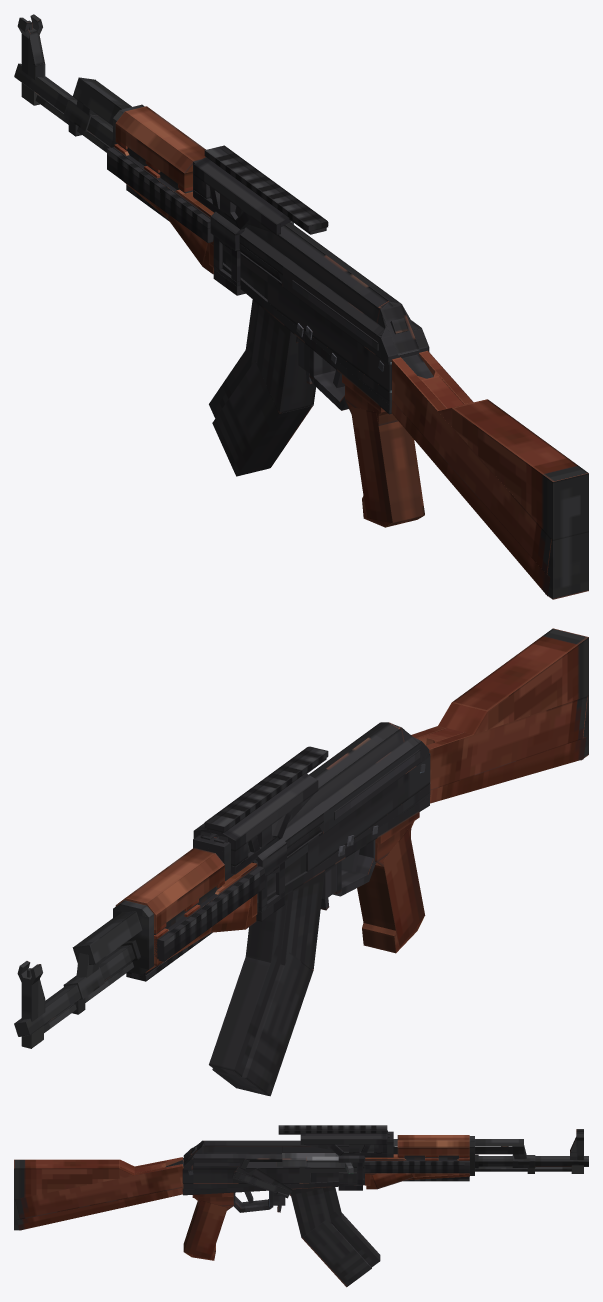
3 renders of one model, top to bottom at view 1: azimuth 30°, elevation 25°; view 2: azimuth 150°, elevation 25°; view 3: azimuth 270°, elevation 25°, orthographic. The views are drawn at different scales.
Parts seen in each view (by area): view 1: gun, magazine, rail, tri_rail, tri_guard; view 2: gun, magazine, rail, tri_rail, tri_guard; view 3: gun, magazine, rail, tri_rail, tri_guard, action, switch.
Boxes of the visible parts, x1,y1,x2,y2 form: gun: (14,14,588,599); magazine: (209,299,315,476); rail: (193,145,328,295); tri_rail: (107,147,213,242); tri_guard: (114,144,213,274); gun: (14,628,588,1048); magazine: (209,871,324,1096); rail: (193,746,328,921); tri_rail: (126,865,264,981); tri_guard: (145,862,257,972); gun: (14,1129,588,1260); magazine: (290,1173,380,1287); rail: (278,1125,387,1190); tri_rail: (364,1159,469,1181); tri_guard: (365,1154,469,1189); action: (276,1153,353,1173); switch: (232,1167,293,1198).
Bounding box in the file's own units: 0.4919 × 1.97 × 6.6.
